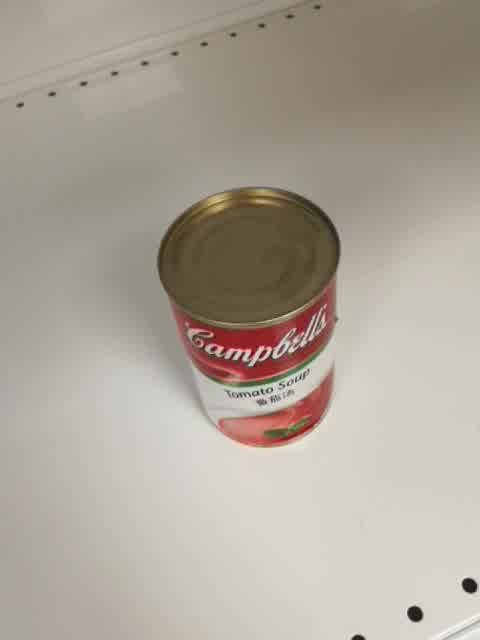tomatosoup: (155, 185, 343, 449)
